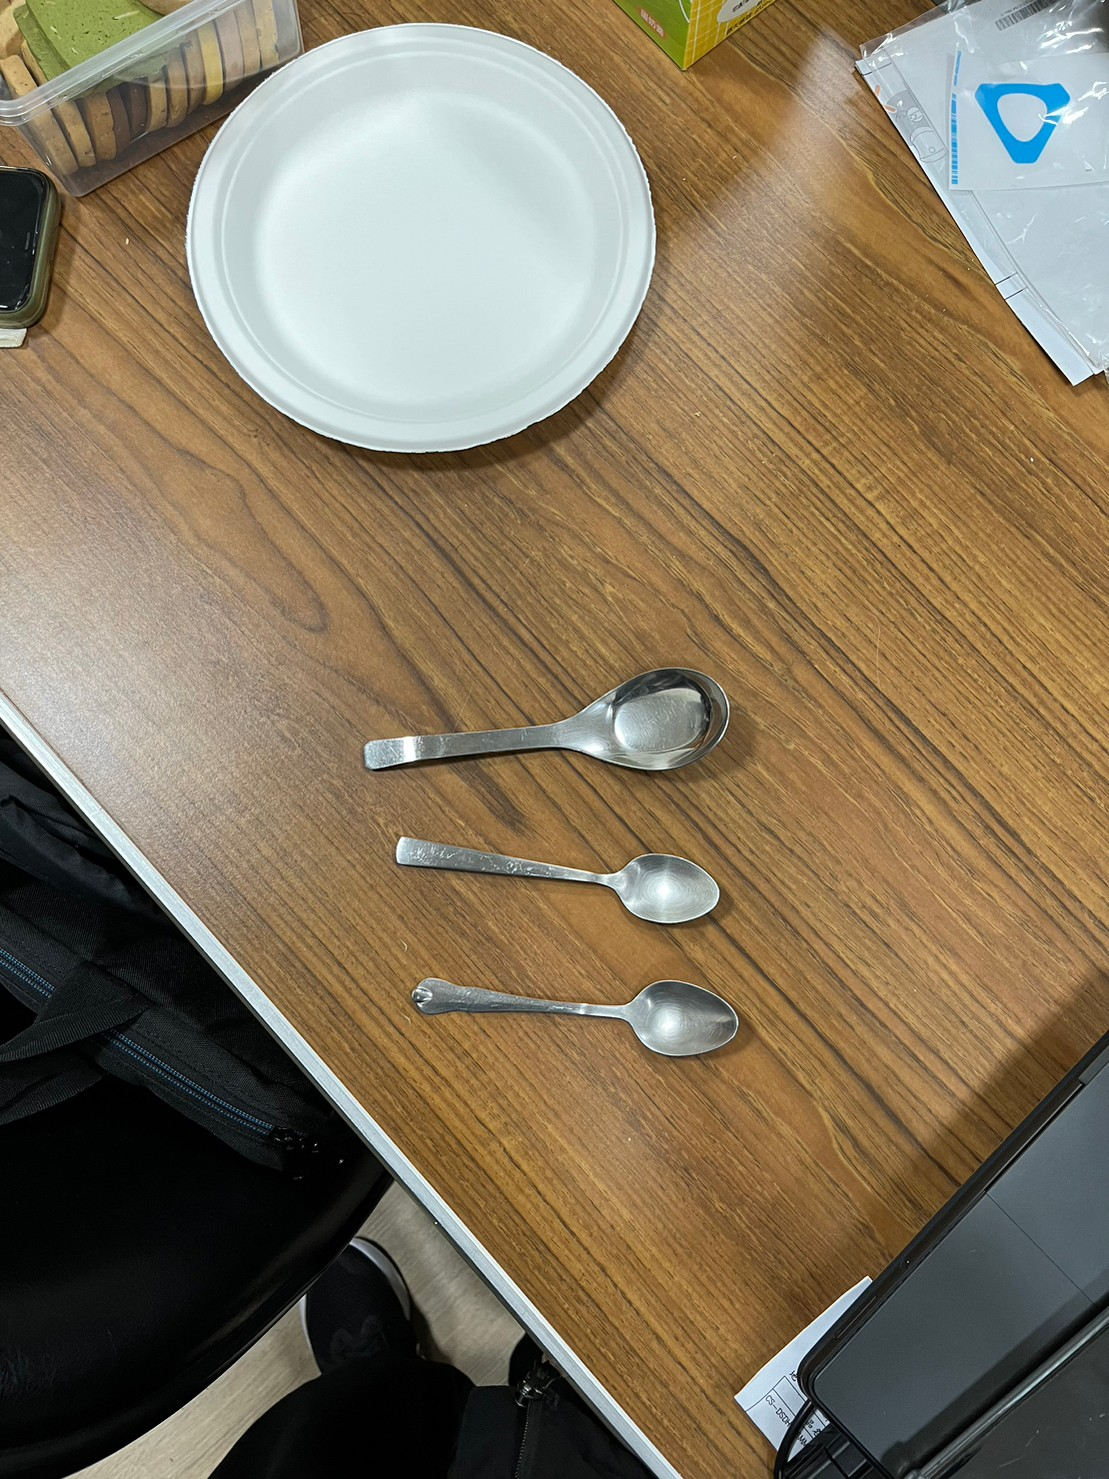spoon: (349, 647, 741, 800), (405, 960, 754, 1078), (381, 822, 741, 936)
